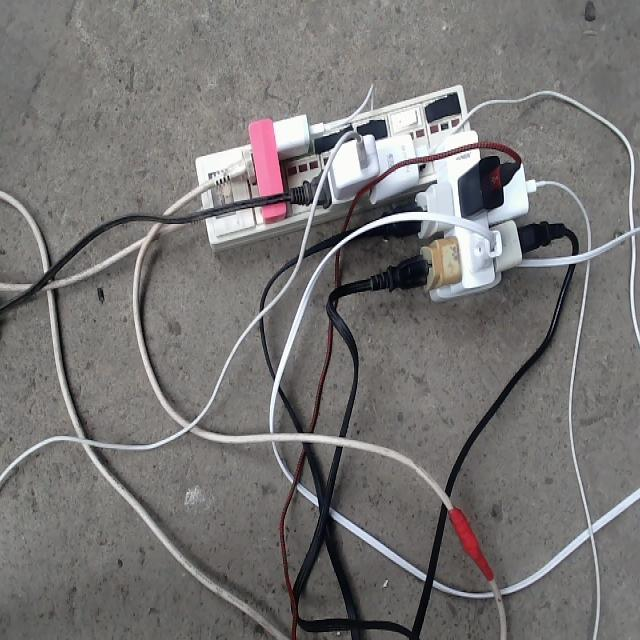-: (195, 84, 570, 300)
